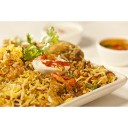briyani: (1, 36, 117, 100)
